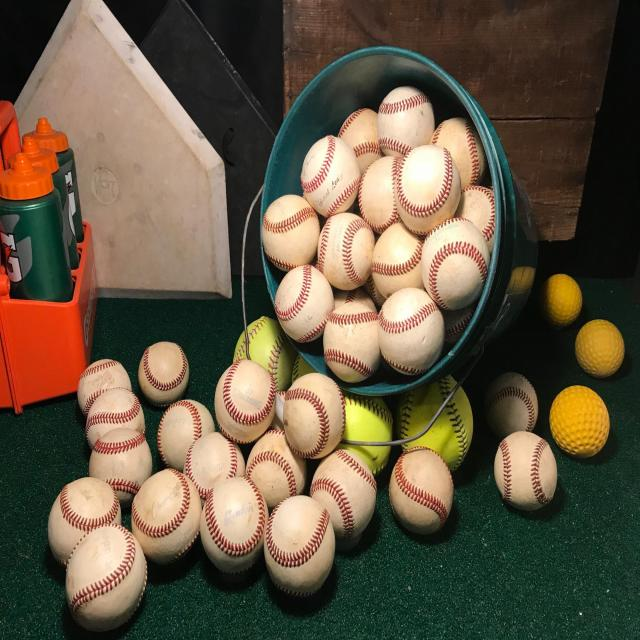baseball: (67, 524, 146, 609), (201, 478, 265, 574), (264, 502, 335, 588), (132, 472, 200, 557), (280, 370, 345, 456), (308, 452, 376, 534), (379, 286, 444, 370), (391, 447, 454, 530), (422, 220, 484, 304), (396, 144, 460, 225), (213, 359, 274, 441), (495, 430, 558, 507), (299, 133, 356, 213), (274, 265, 332, 337), (48, 476, 118, 534), (326, 300, 376, 380), (242, 432, 302, 498), (377, 86, 433, 153), (262, 197, 316, 264), (90, 426, 152, 484), (321, 213, 371, 283), (82, 382, 146, 434), (136, 341, 190, 402), (157, 397, 203, 465), (484, 368, 537, 426), (184, 432, 243, 484), (373, 224, 422, 286), (359, 158, 399, 229)
